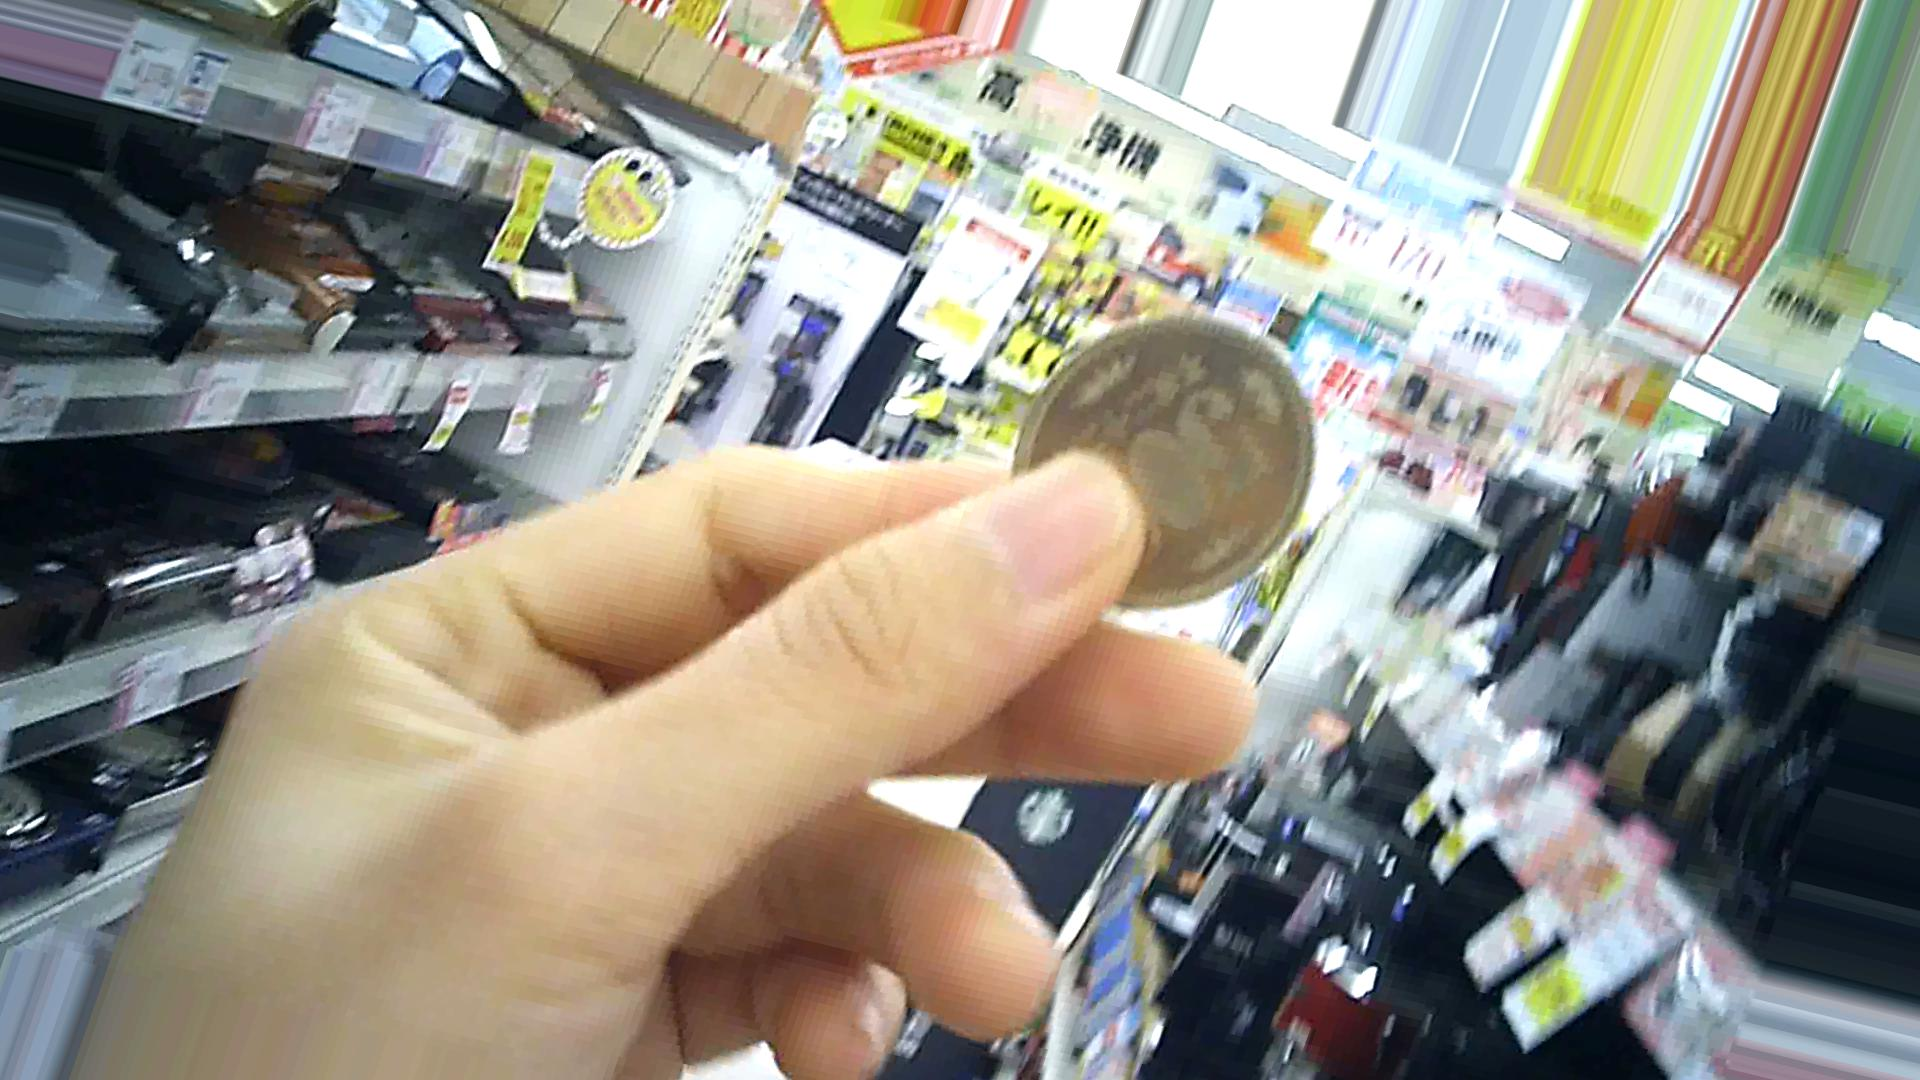500 Yen: (997, 307, 1316, 597)
